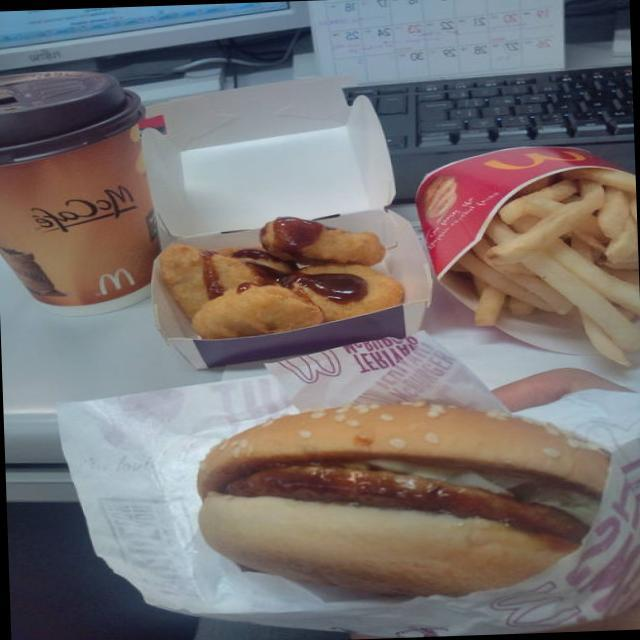French Fries: (444, 169, 637, 374)
Hamburger: (180, 373, 612, 614)
